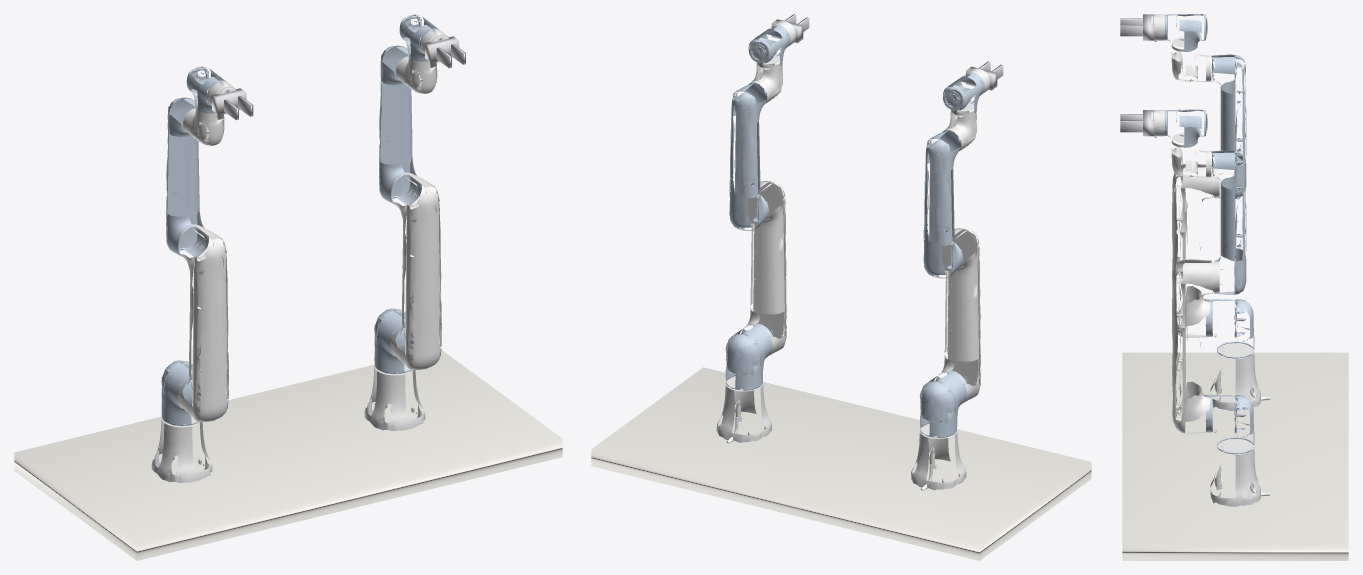
The model's file is nova5_lo.glb.
The picture shows the model from 3 angles, left to right: view 1: azimuth 30°, elevation 25°; view 2: azimuth 150°, elevation 25°; view 3: azimuth 270°, elevation 25°; orthographic projection. The views are drawn at different scales.
Visible parts, largest first — view 1: platform, R_J2, L_J2, R_J3, L_J3, L_BASE, R_BASE, L_J1, R_J1, L_J4, R_J4, L_J5 (+1 smaller); view 2: platform, R_J2, L_J2, L_J3, R_J3, L_J1, R_J1, R_BASE, L_BASE, R_J5, L_J5, R_J4 (+1 smaller); view 3: platform, R_J2, R_J3, L_J2, L_J3, R_BASE, L_BASE, R_J1, L_J1, R_J5, L_J5, R_J4 (+5 smaller).
Boxes of the visible parts, x1,y1,x2,y2 form: platform: [14, 350, 562, 560]; R_J2: [390, 172, 441, 369]; L_J2: [177, 224, 228, 421]; R_J3: [379, 45, 421, 204]; L_J3: [166, 97, 209, 256]; L_BASE: [151, 417, 212, 483]; R_BASE: [364, 364, 425, 432]; L_J1: [161, 360, 200, 426]; R_J1: [374, 308, 411, 374]; L_J4: [183, 100, 224, 145]; R_J4: [395, 49, 437, 93]; L_J5: [186, 66, 228, 113]; platform: [591, 367, 1091, 560]; R_J2: [741, 181, 786, 356]; L_J2: [935, 228, 980, 403]; L_J3: [923, 130, 963, 278]; R_J3: [729, 83, 768, 230]; L_J1: [919, 370, 967, 437]; R_J1: [725, 323, 773, 390]; R_BASE: [716, 377, 771, 443]; L_BASE: [911, 424, 966, 490]; R_J5: [748, 25, 790, 68]; L_J5: [943, 72, 984, 115]; R_J4: [750, 54, 782, 104]; platform: [1122, 352, 1348, 560]; R_J2: [1172, 259, 1219, 433]; R_J3: [1211, 150, 1246, 294]; L_J2: [1172, 164, 1219, 337]; L_J3: [1211, 54, 1246, 198]; R_BASE: [1210, 439, 1269, 506]; L_BASE: [1210, 343, 1269, 410]; R_J1: [1205, 395, 1254, 454]; L_J1: [1205, 299, 1254, 358]; R_J5: [1164, 109, 1207, 147]; L_J5: [1164, 14, 1207, 51]; R_J4: [1171, 133, 1211, 177].
Size of the model in its own units: 1200 by 1175 by 606.
